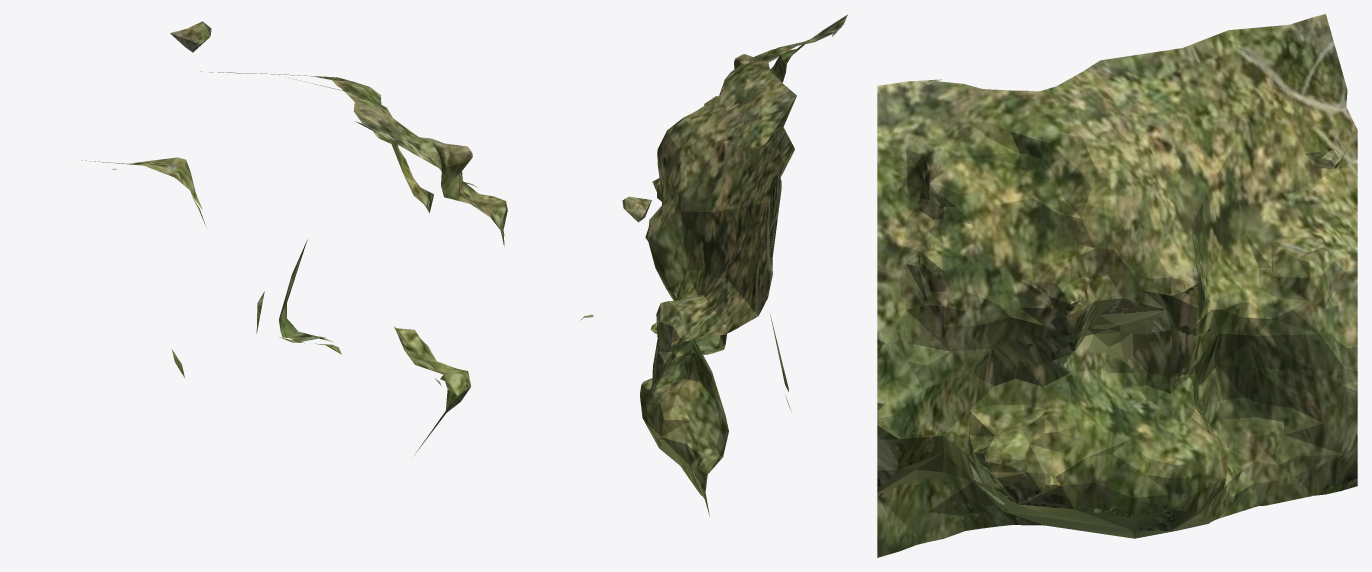
The picture shows the model from 3 angles, left to right: view 1: azimuth 30°, elevation 25°; view 2: azimuth 150°, elevation 25°; view 3: azimuth 270°, elevation 25°; orthographic projection. The views are drawn at different scales.
Size of the model in its own units: 2.43 by 2.95 by 2.95.
4 materials, 4 textured.
